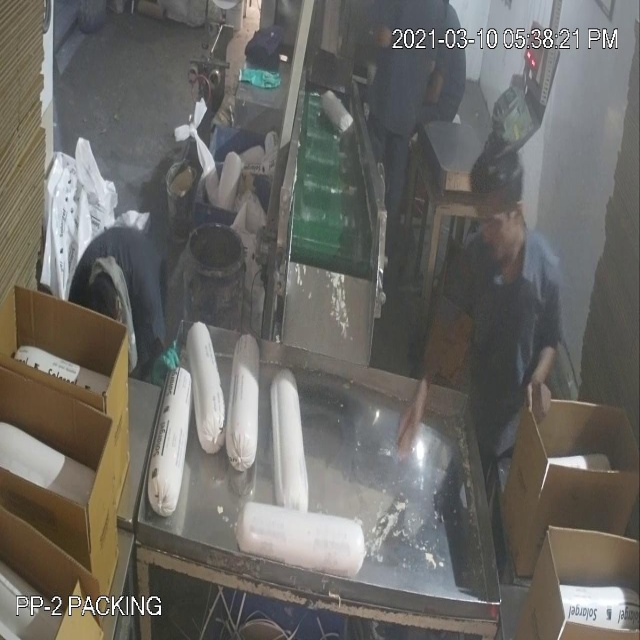Sin_guantes: (398, 276, 457, 470), (521, 330, 558, 447)
